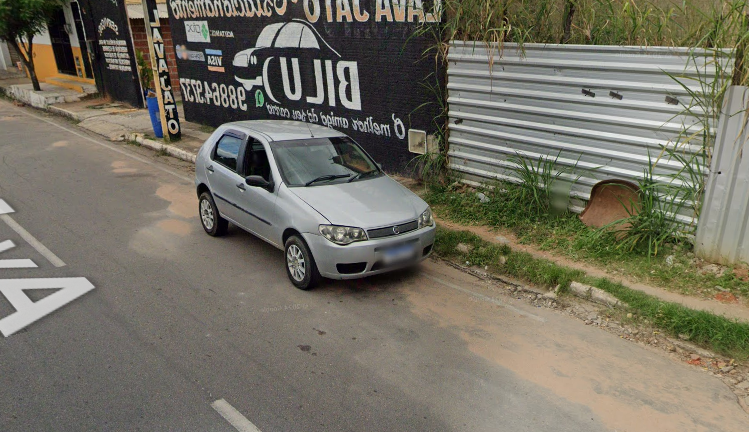car: (188, 112, 441, 298)
